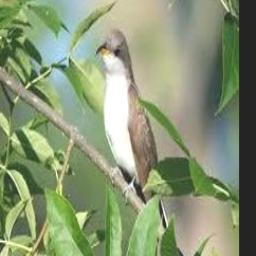Cuckoo: (95, 29, 172, 242)
